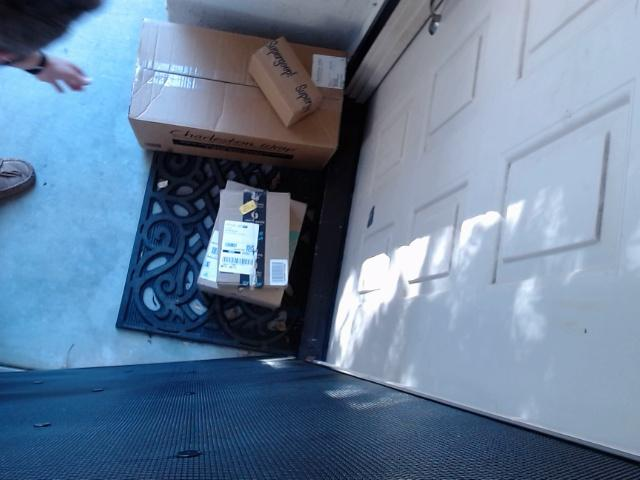box: (88, 0, 373, 185), (186, 163, 311, 310), (201, 176, 298, 300), (239, 25, 335, 149)
